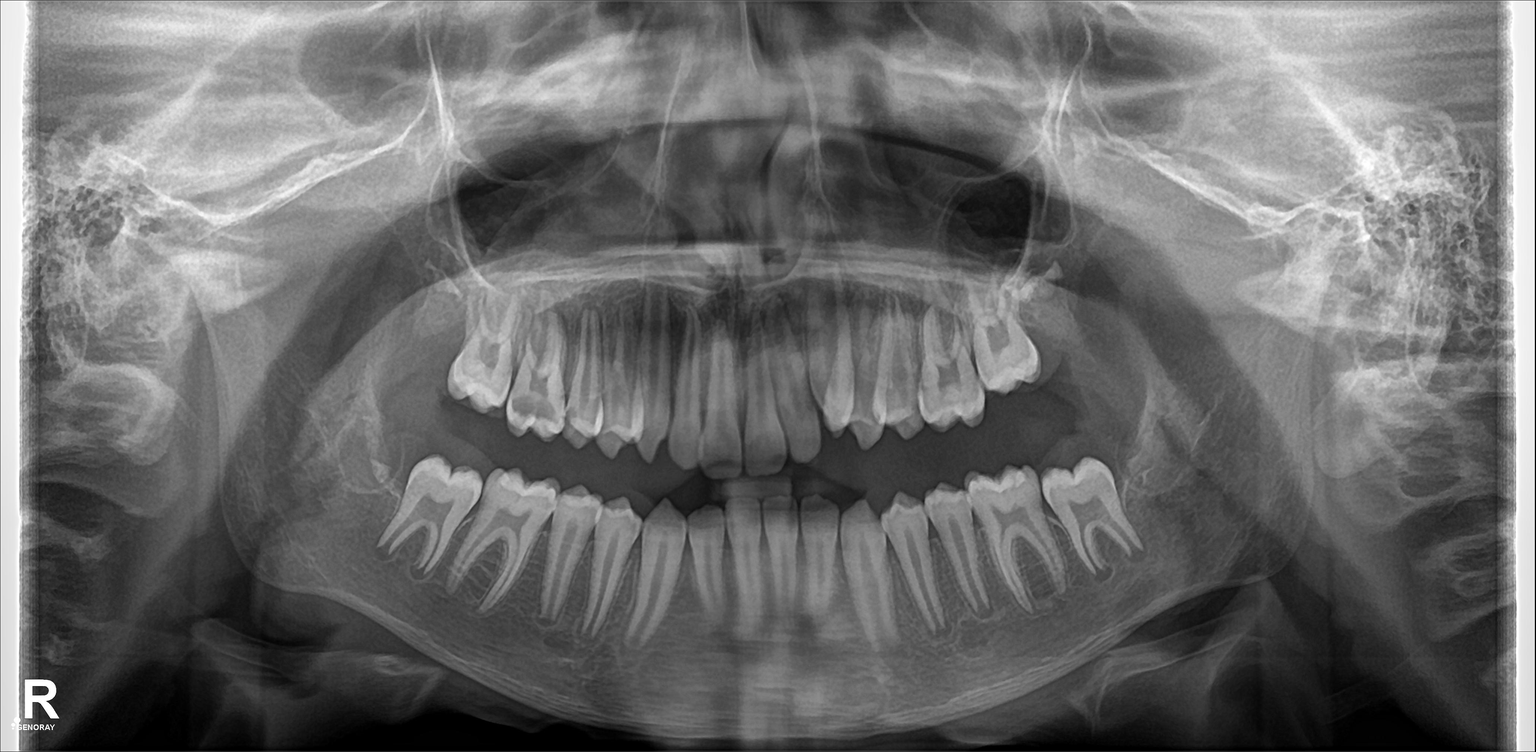Dental Caries: (521, 369, 556, 422)
Missing Tooth: (1034, 270, 1101, 381), (416, 268, 465, 404)
